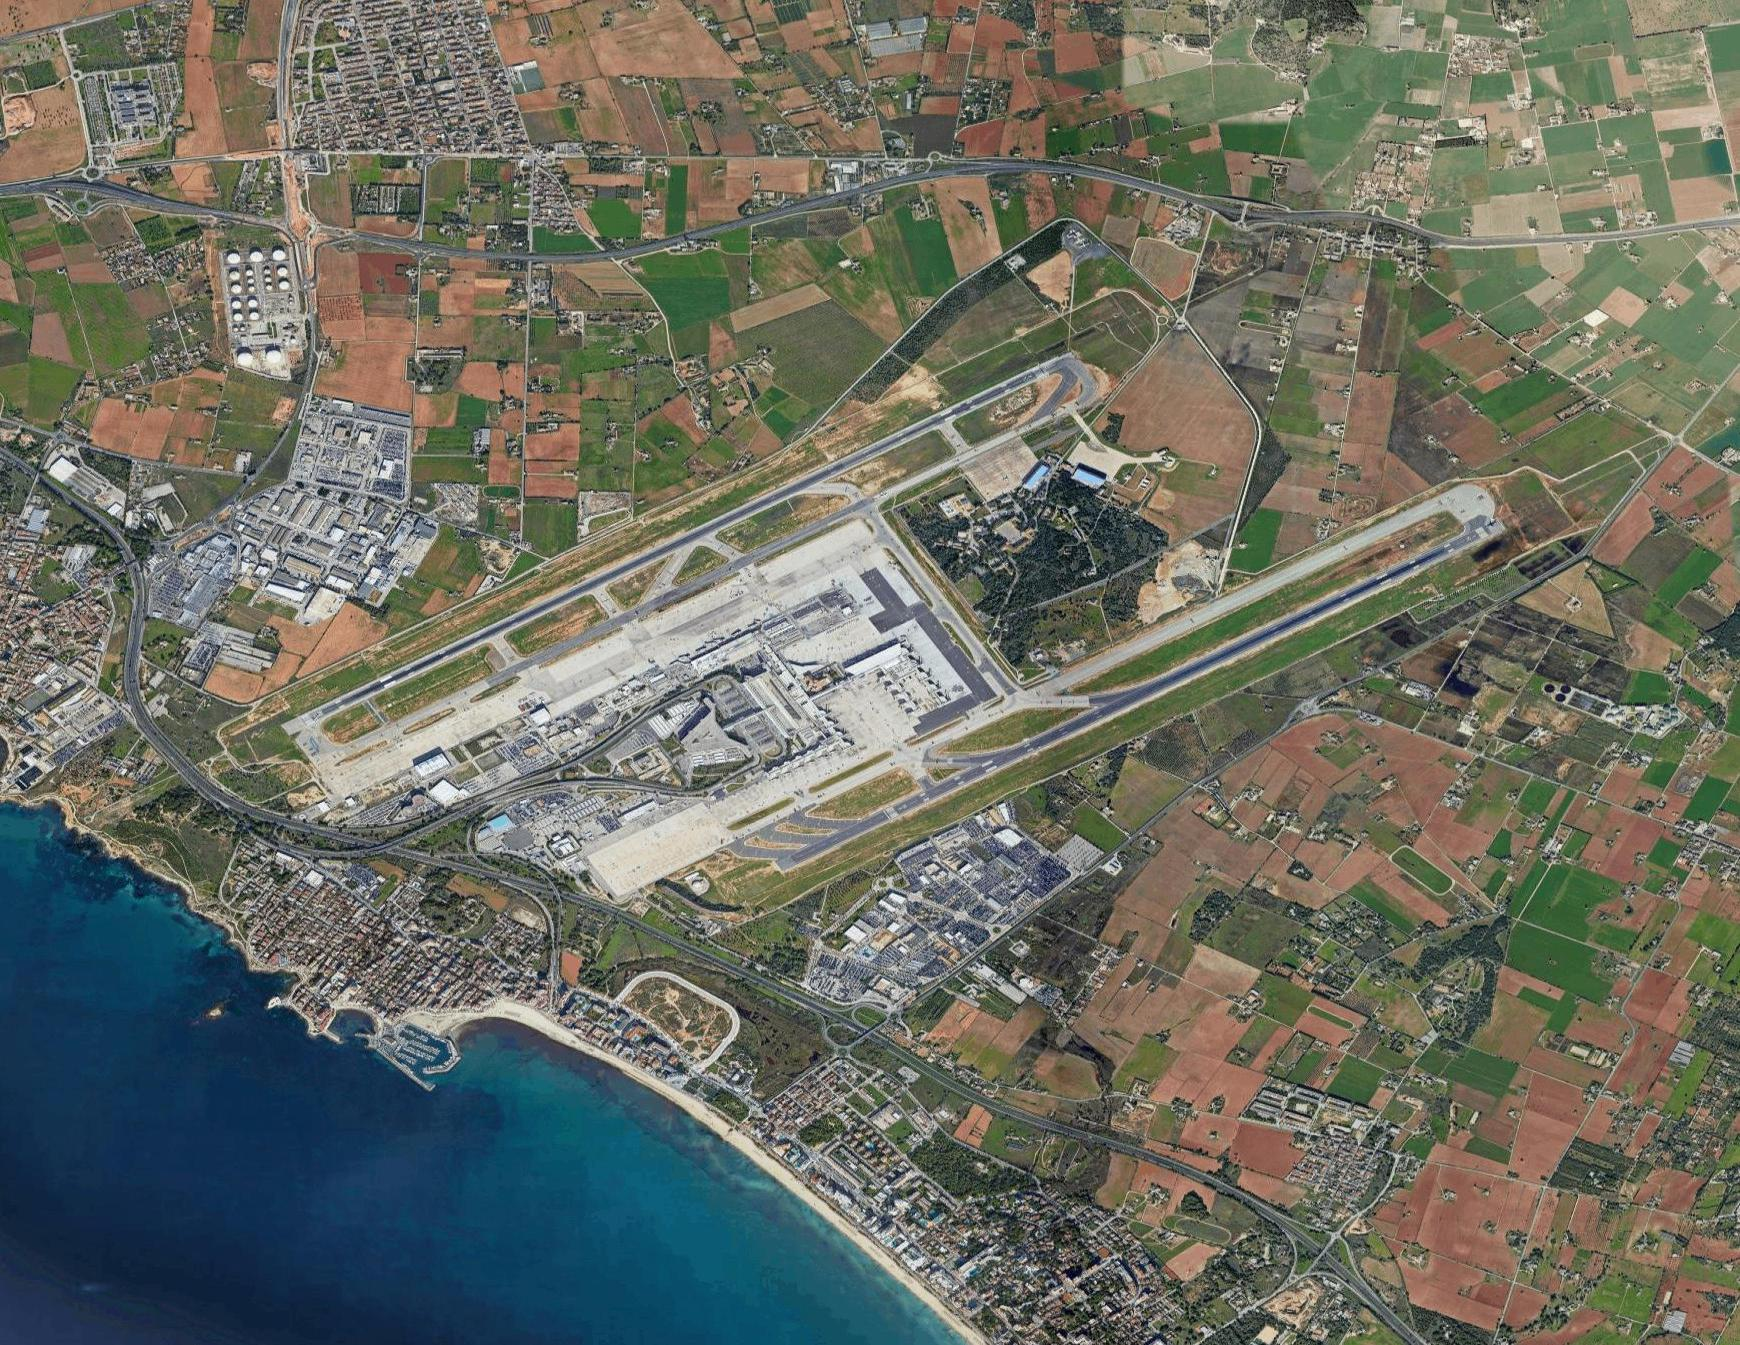airport: (280, 352, 1508, 899)
motorway: (1209, 1178, 1425, 1345), (186, 763, 425, 865), (616, 911, 835, 1016), (835, 1012, 1011, 1118), (1, 439, 138, 558), (1008, 1109, 1209, 1183), (121, 562, 186, 767), (422, 853, 619, 917), (1071, 160, 1254, 220), (192, 203, 422, 251), (1256, 211, 1517, 250), (684, 186, 862, 240), (1, 170, 189, 219), (427, 235, 684, 266), (862, 155, 1069, 194), (1517, 216, 1740, 249)
